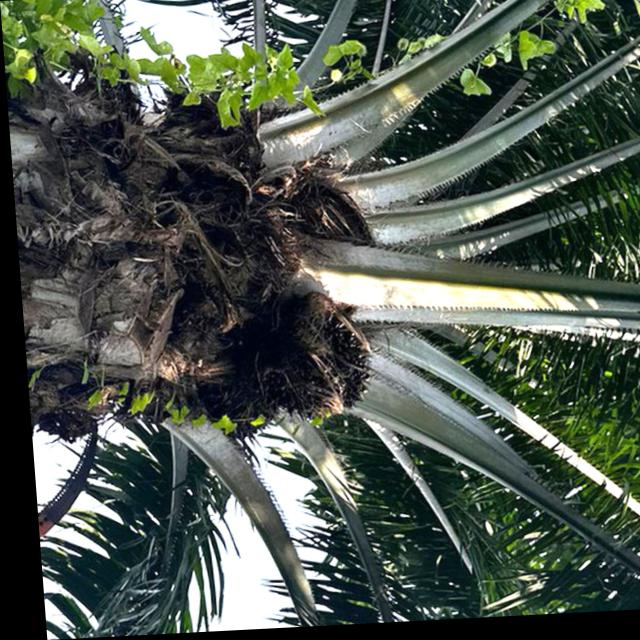unripe: (234, 289, 387, 431)
